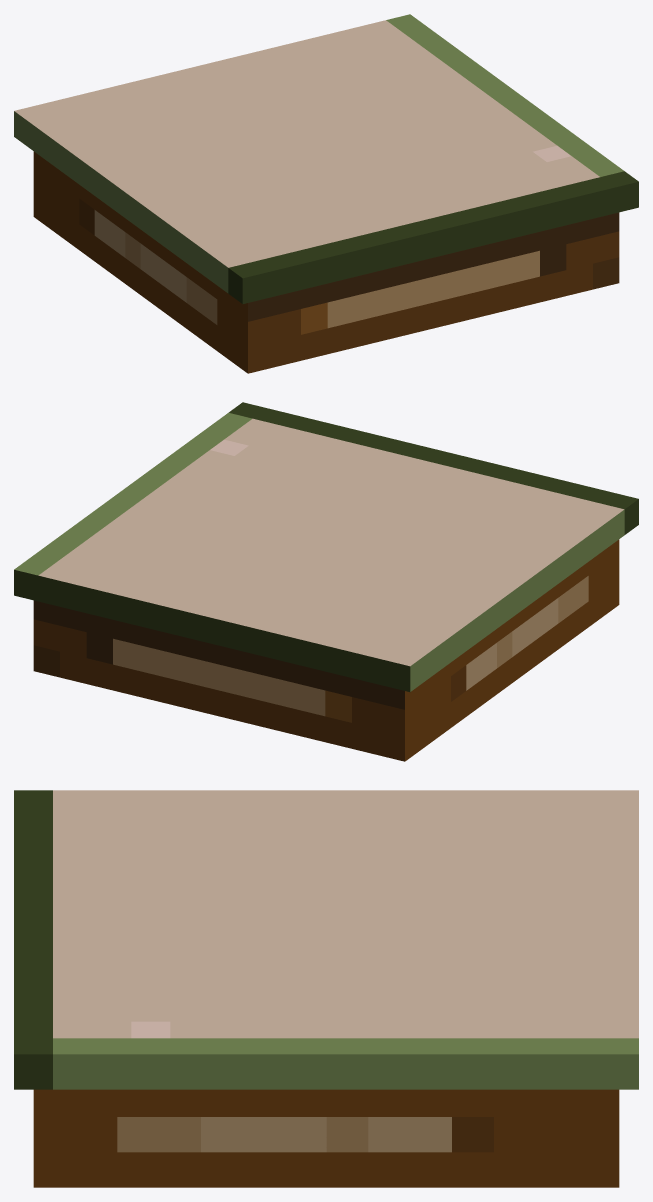
The model's file is counter_518x10.gltf.
The picture shows the model from 3 angles, top to bottom: view 1: azimuth 30°, elevation 25°; view 2: azimuth 150°, elevation 25°; view 3: azimuth 270°, elevation 25°; orthographic projection. The views are drawn at different scales.
Visible parts, largest first — view 1: Counter_518x10; view 2: Counter_518x10; view 3: Counter_518x10.
Boxes of the visible parts, x1,y1,x2,y2 form: Counter_518x10: [14, 14, 638, 373]; Counter_518x10: [14, 402, 638, 761]; Counter_518x10: [14, 790, 638, 1187].
Bounding box in the file's own units: 2.07 × 0.5175 × 2.07.
1 material, 1 textured.
